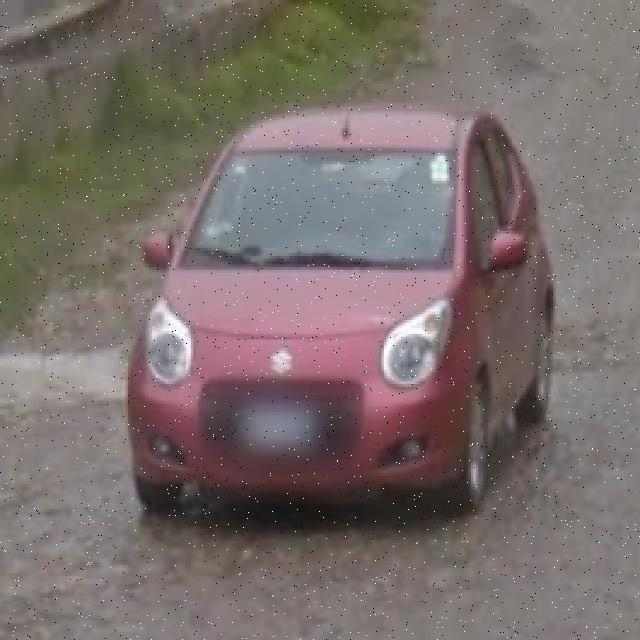cars: (136, 132, 557, 519)
